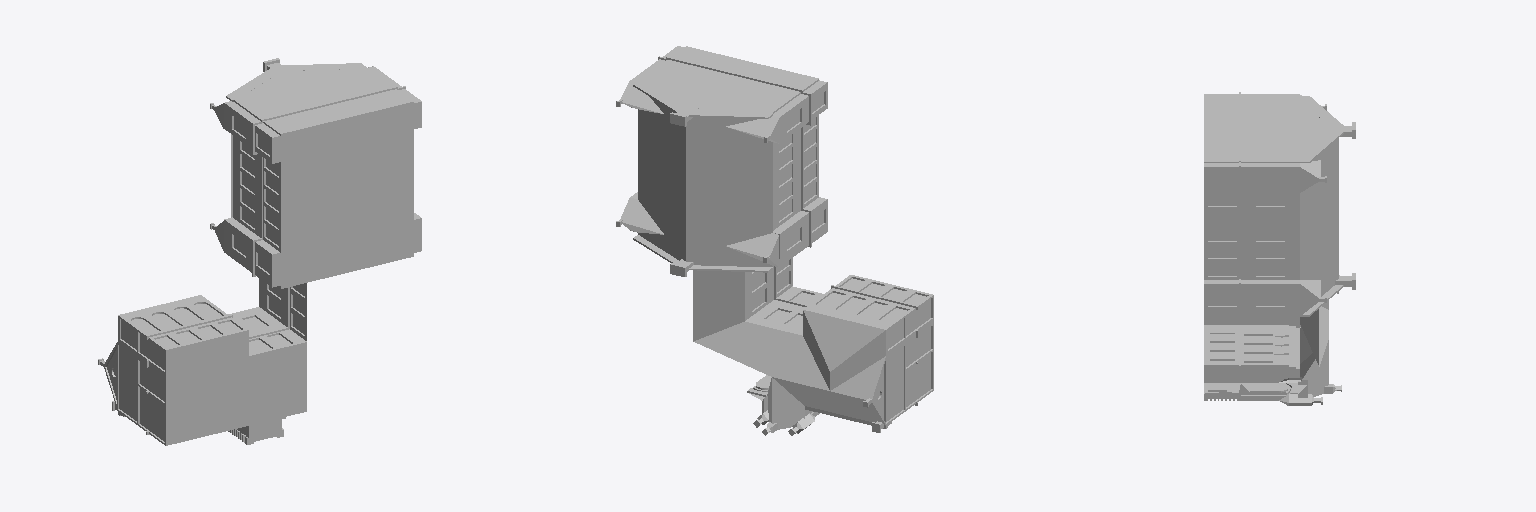
3 views of the same model, side by side, from view 1: azimuth 30°, elevation 25°; view 2: azimuth 150°, elevation 25°; view 3: azimuth 270°, elevation 25° (orthographic).
Visible parts, largest first — view 1: samochodowka_cz2; view 2: samochodowka_cz2; view 3: samochodowka_cz2.
Boxes of the visible parts, x1=… form: samochodowka_cz2: x1=98, y1=58, x2=421, y2=445; samochodowka_cz2: x1=616, y1=46, x2=933, y2=435; samochodowka_cz2: x1=1204, y1=92, x2=1355, y2=405.
Size of the model in its own units: 0.028 by 0.0321 by 0.0142.